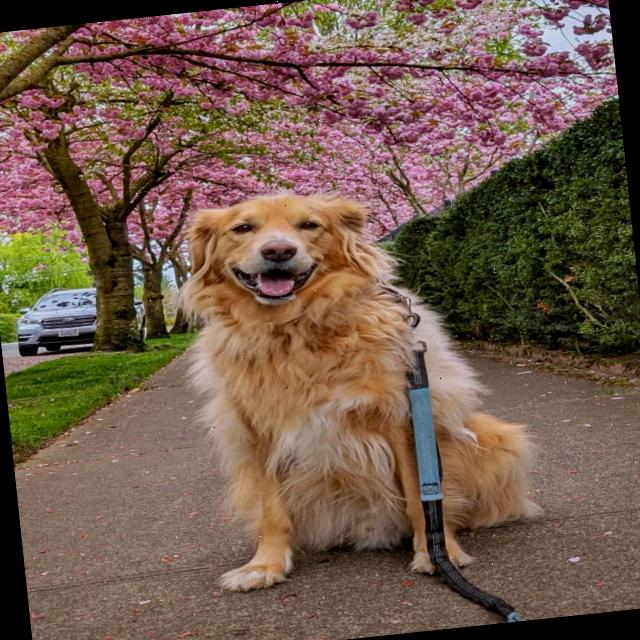golden_retriever_dog: (153, 177, 414, 339)
